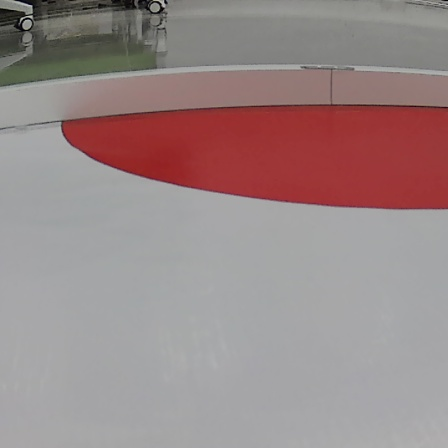red_base: (58, 104, 448, 209)
